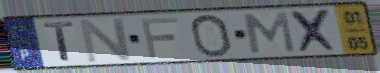F: (139, 16, 181, 60)
M: (241, 11, 298, 55)
N: (77, 16, 135, 64)
O: (187, 13, 234, 59)
T: (41, 20, 78, 64)
X: (288, 7, 343, 55)
